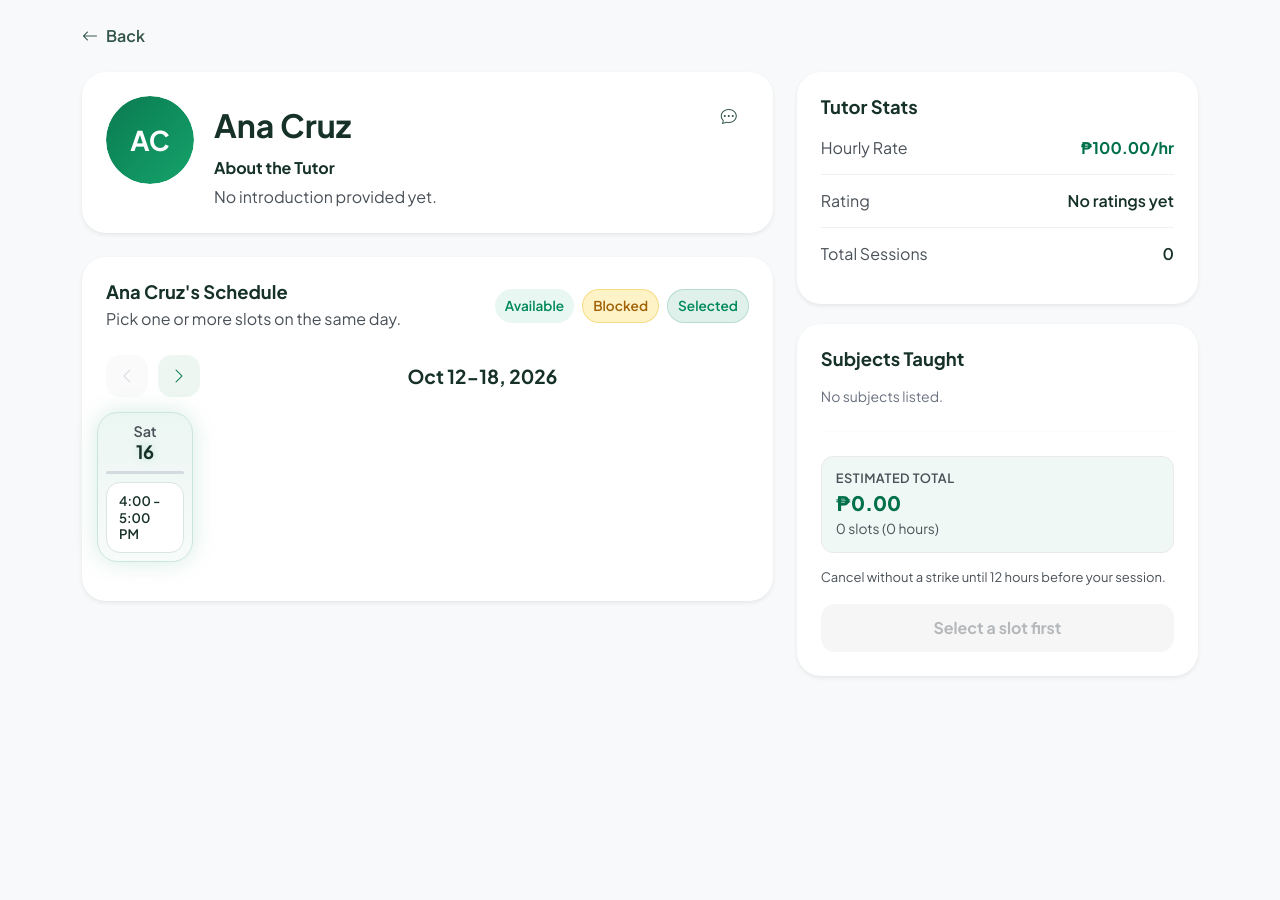
Test: TutorDetails truth and booking consequences › warns before confirming a booking already inside the cutoff
Click the button with class "slot-link".
click(145, 518)  # box [106, 482, 184, 554]
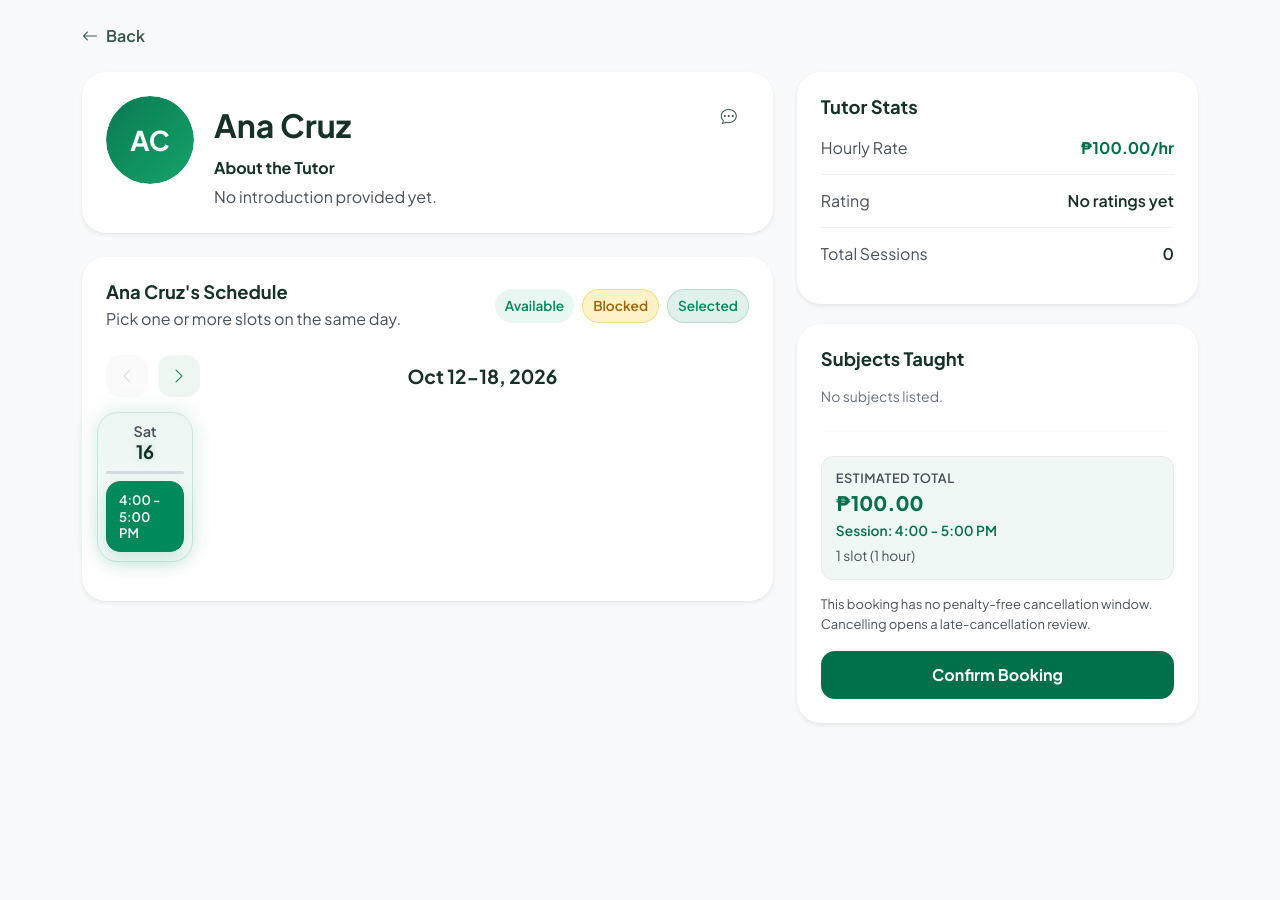
Now the message shows "no penalty-free cancellation window", box [821, 596, 1152, 632]
Now the message shows "late-cancellation review", box [821, 596, 1152, 632]
